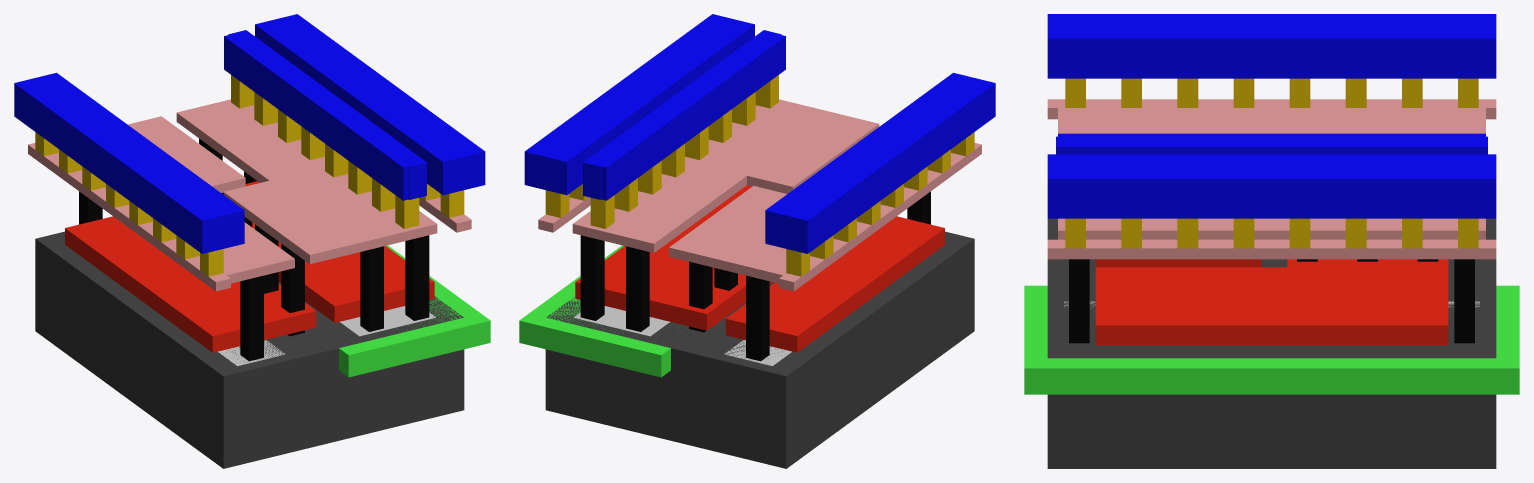
File: sky130_fd_sc_hd__lpflow_decapkapwr_8.obj
3 renders of one model, left to right at view 1: azimuth 30°, elevation 25°; view 2: azimuth 150°, elevation 25°; view 3: azimuth 270°, elevation 25°, orthographic. The views are drawn at different scales.
Parts seen in each view (by area): view 1: subs, metal1, li, poly, licon, mcon, nwell, tap, diff; view 2: subs, metal1, li, poly, mcon, licon, nwell, tap, diff; view 3: metal1, subs, poly, li, nwell, mcon, licon.
Boxes of the visible parts, x1,y1,x2,y2 form: subs: [35, 231, 464, 468]; metal1: [14, 14, 485, 253]; li: [28, 99, 471, 291]; poly: [65, 181, 434, 352]; licon: [79, 138, 429, 361]; mcon: [35, 75, 464, 276]; nwell: [339, 245, 490, 377]; tap: [340, 306, 435, 336]; diff: [218, 340, 284, 365]; subs: [545, 231, 974, 468]; metal1: [524, 14, 995, 253]; li: [538, 99, 981, 291]; poly: [575, 185, 944, 352]; mcon: [545, 75, 974, 276]; licon: [580, 191, 930, 361]; nwell: [519, 245, 670, 377]; tap: [574, 306, 669, 336]; diff: [724, 340, 791, 365]; metal1: [1047, 14, 1496, 218]; subs: [1047, 218, 1496, 468]; poly: [1095, 259, 1448, 345]; li: [1047, 99, 1496, 259]; nwell: [1024, 285, 1519, 394]; mcon: [1065, 78, 1478, 248]; licon: [1069, 259, 1474, 343].
Bounding box in the file's own units: 3.2 × 2.74 × 4.06.
